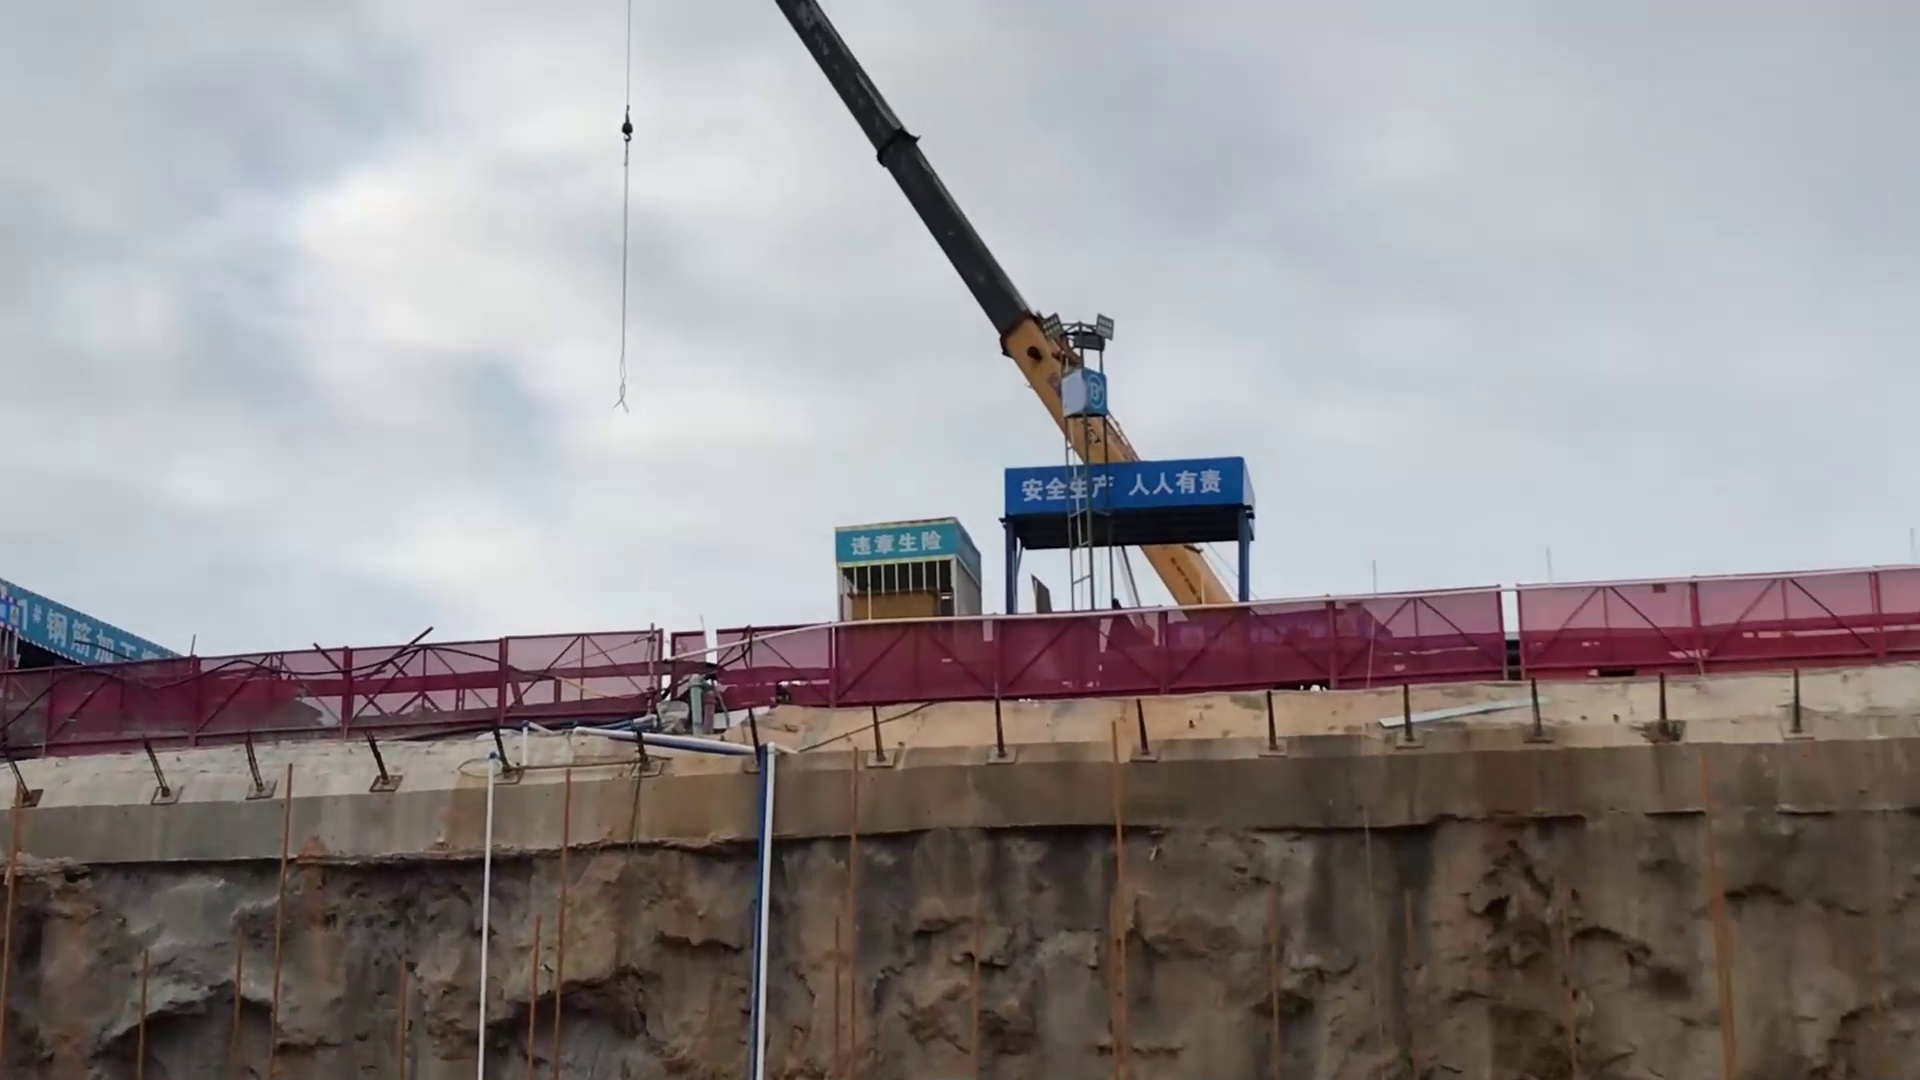slogan: (1011, 450, 1226, 520), (847, 524, 948, 558)
